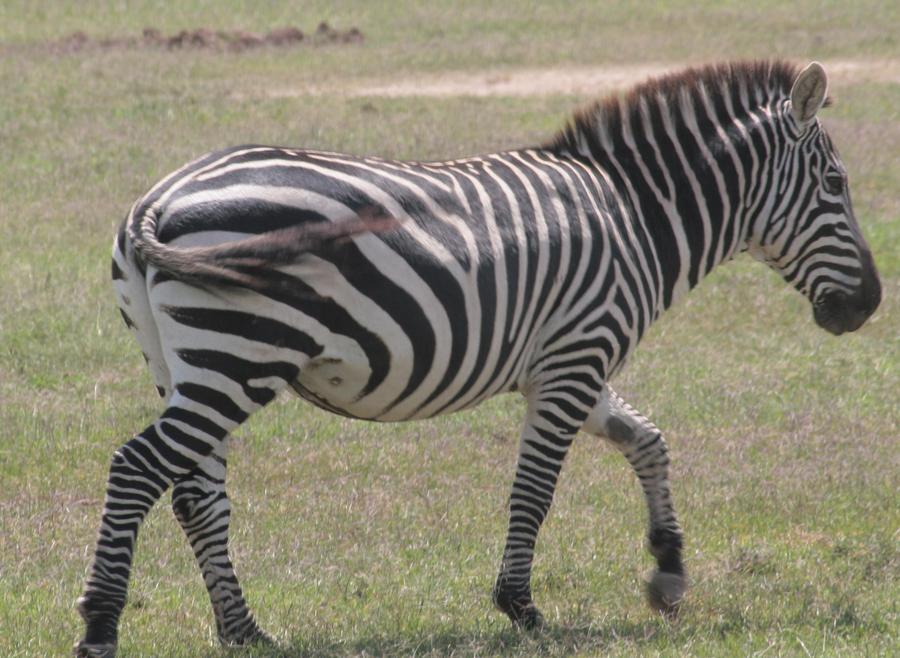zebra_plains: (170, 134, 652, 434)
